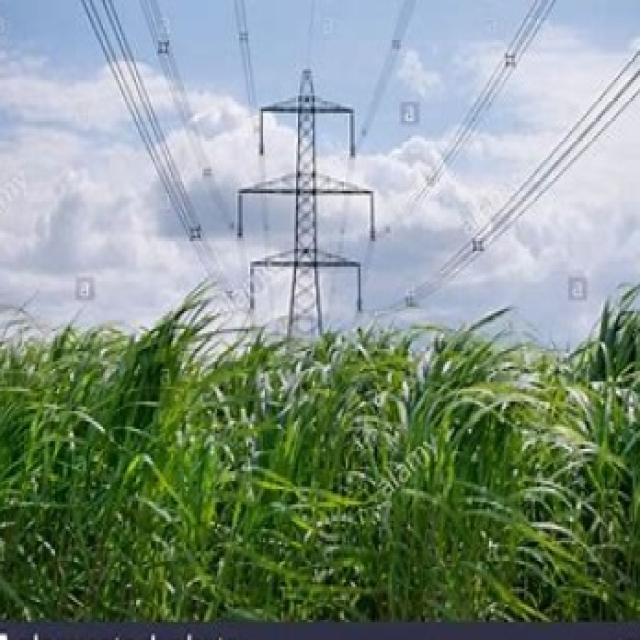utility poles: (241, 49, 367, 622)
